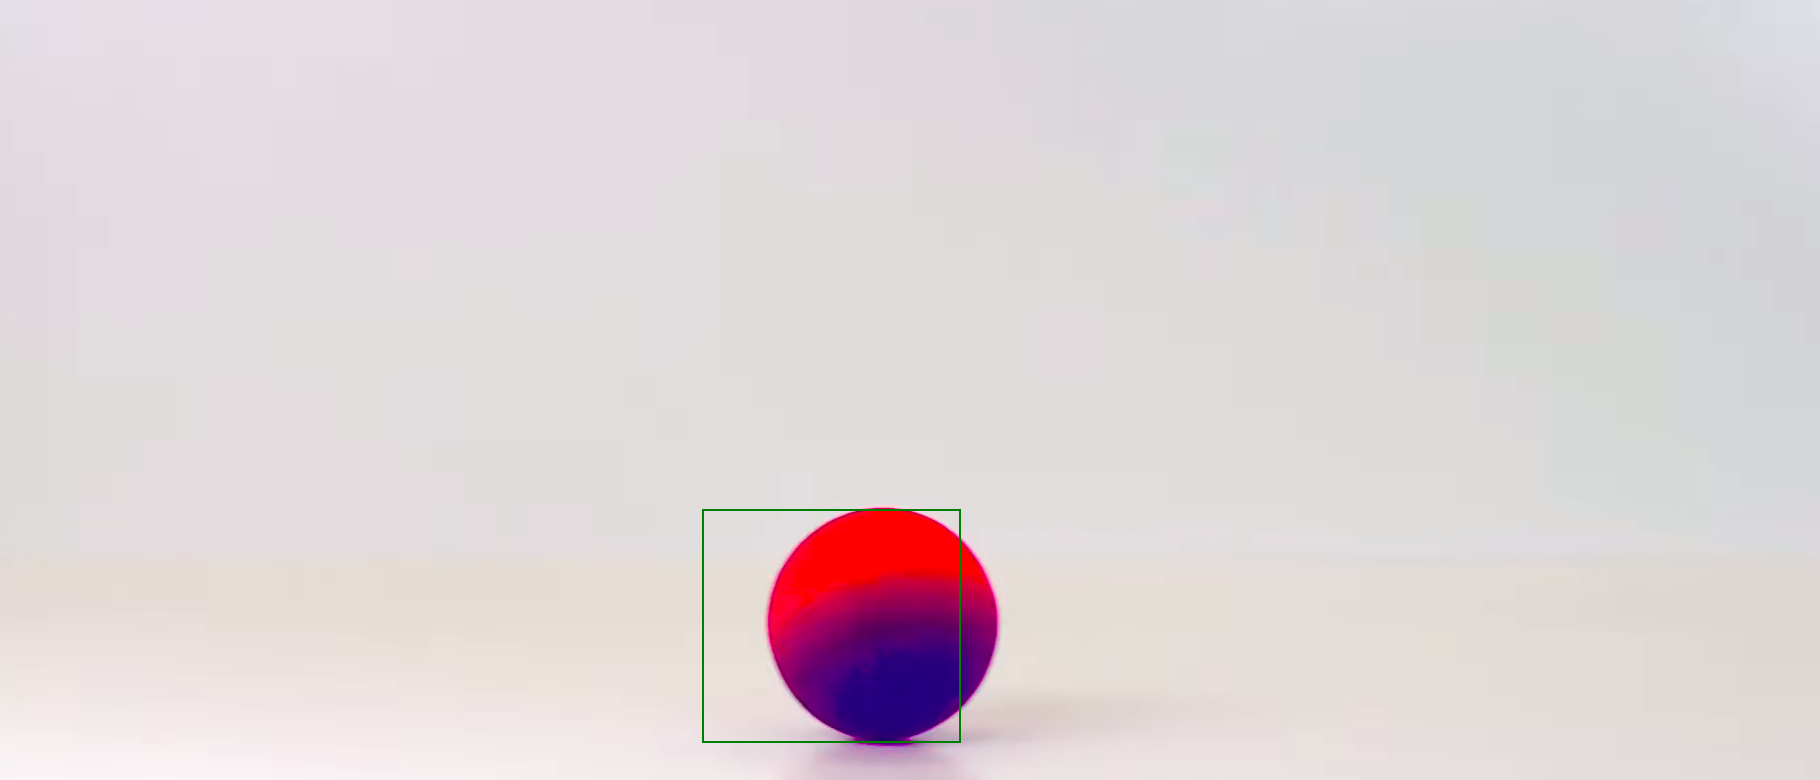Circle: (767, 506, 1001, 744)
